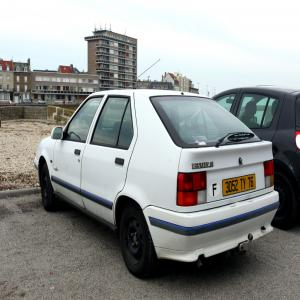Vehicle-registration-plate: (227, 172, 247, 209)
